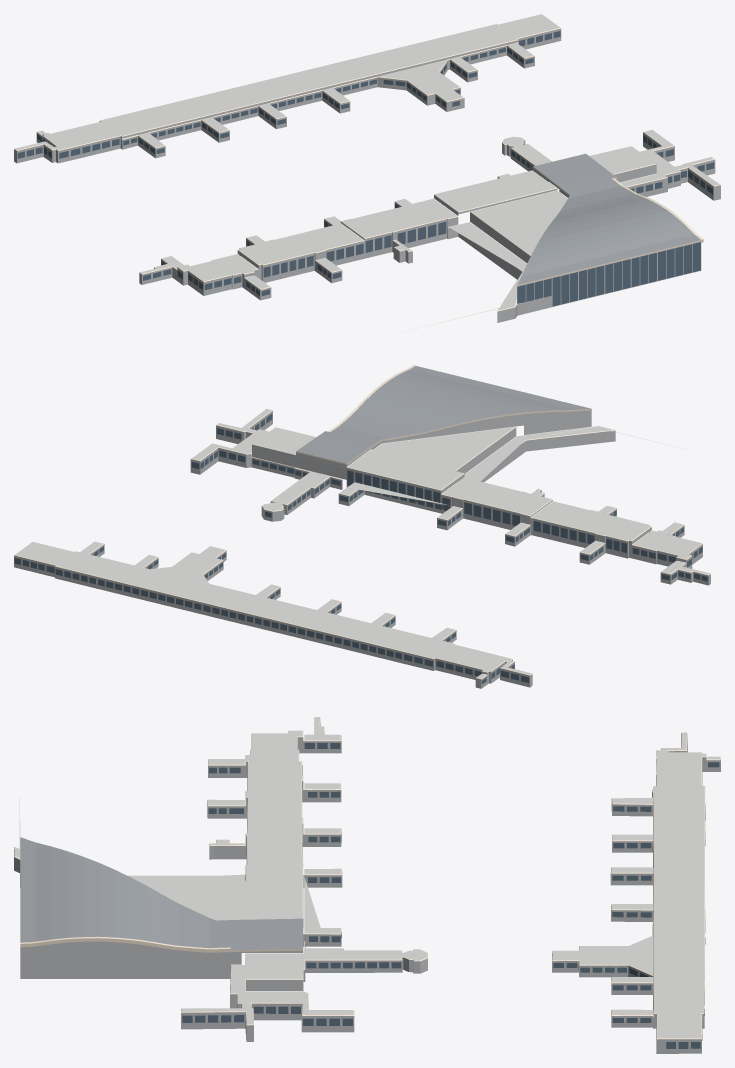
The model's file is nyc-jfk-terminal-8.glb.
3 views of the same model, one above another, from view 1: azimuth 30°, elevation 25°; view 2: azimuth 150°, elevation 25°; view 3: azimuth 270°, elevation 25° (orthographic). The views are drawn at different scales.
Visible parts, largest first — view 1: JFK Airport Terminal 8; view 2: JFK Airport Terminal 8; view 3: JFK Airport Terminal 8.
Part boxes in pixels (<box>): JFK Airport Terminal 8: <box>14,14,720,331</box>; JFK Airport Terminal 8: <box>14,365,710,688</box>; JFK Airport Terminal 8: <box>14,717,720,1053</box>.
Size of the model in its own units: 485 by 29.35 by 447.
